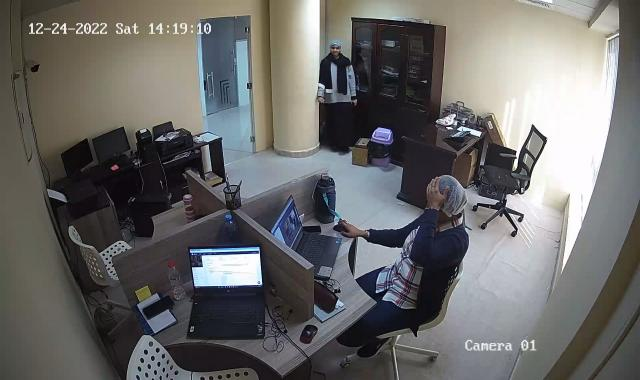hairnet: (429, 172, 467, 216), (330, 40, 342, 55)
